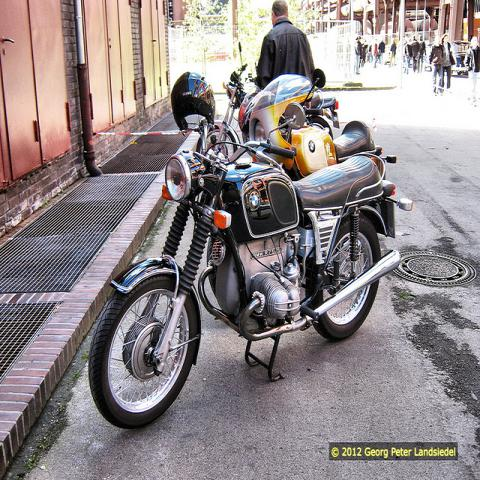car: (448, 40, 471, 76)
motorcycle: (87, 71, 415, 438), (252, 94, 370, 174)
